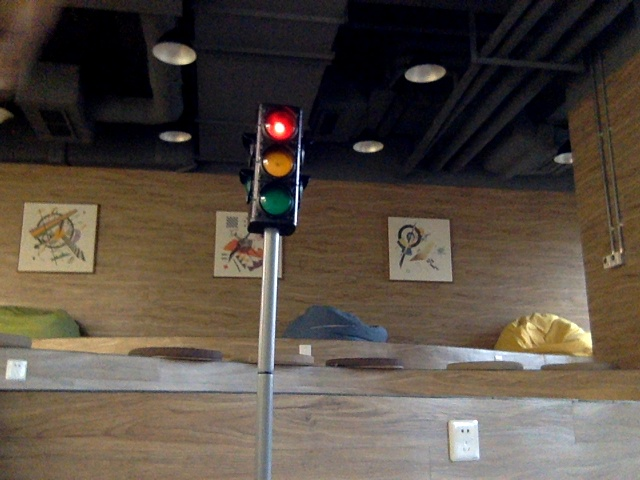red: (257, 109, 289, 220)
